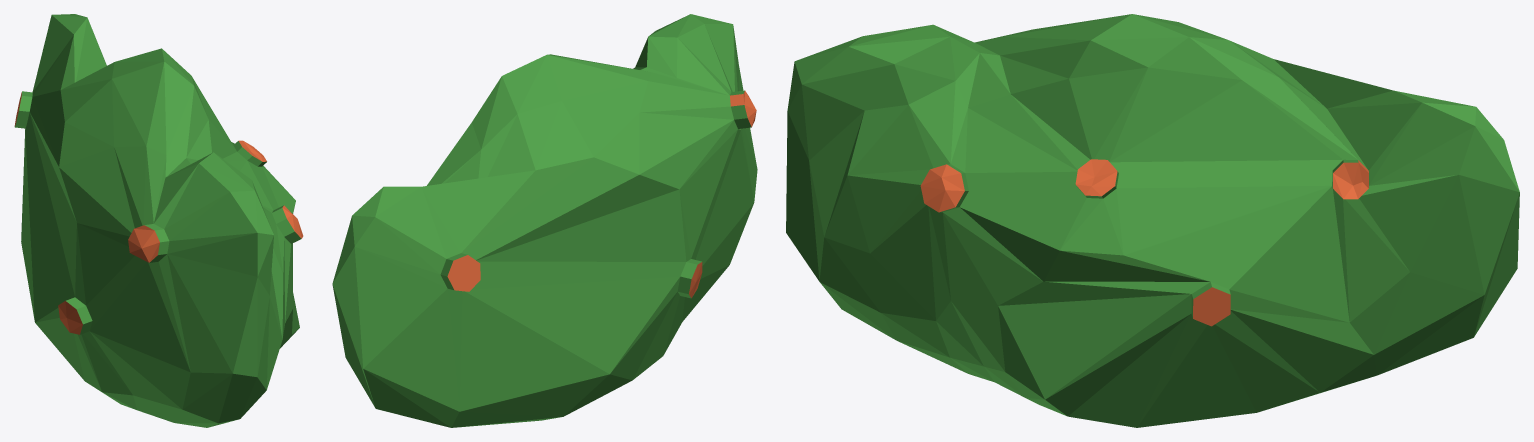
The model's file is bush_3.fbx.
The picture shows the model from 3 angles, left to right: view 1: azimuth 30°, elevation 25°; view 2: azimuth 150°, elevation 25°; view 3: azimuth 270°, elevation 25°; orthographic projection. The views are drawn at different scales.
Parts seen in each view (by area): view 1: Icosphere.002; view 2: Icosphere.002; view 3: Icosphere.002.
Part boxes in pixels (bbox=[...]): Icosphere.002: bbox=[14, 14, 303, 427]; Icosphere.002: bbox=[332, 14, 757, 427]; Icosphere.002: bbox=[786, 14, 1519, 427].
Bounding box in the file's own units: 260 × 332 × 554.
